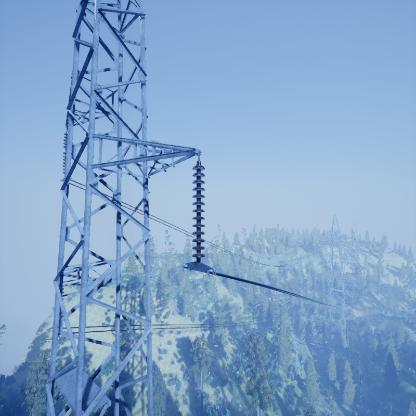insulator: (189, 163, 207, 263)
